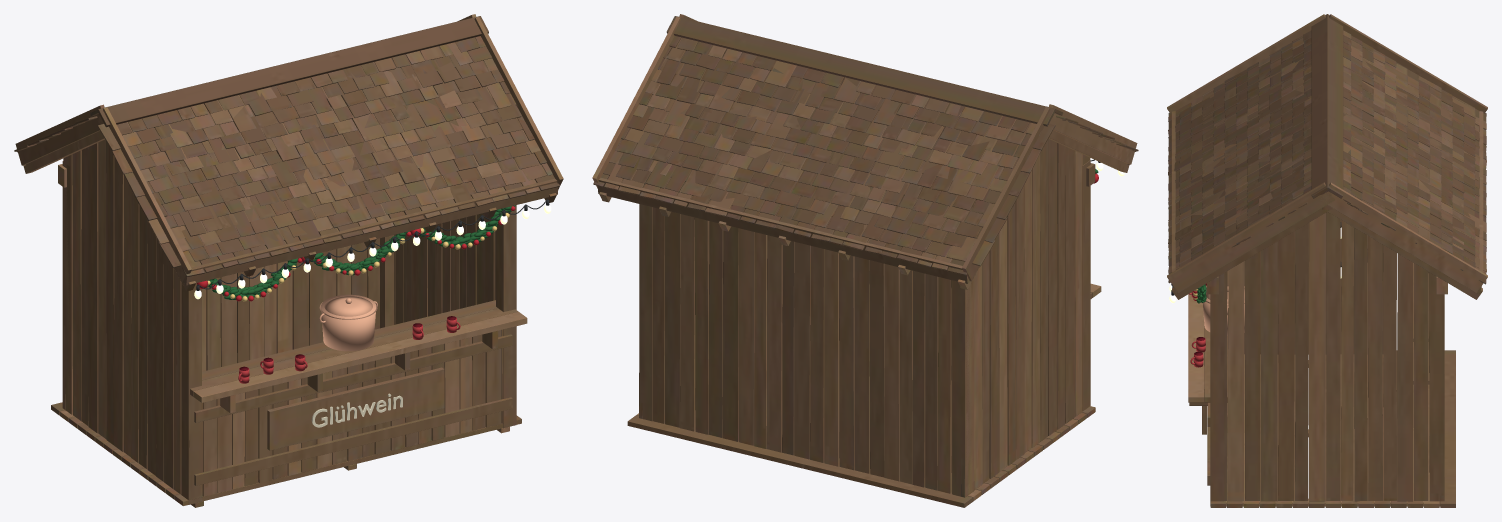
File: gluehwein_stall_web.glb
The picture shows the model from 3 angles, left to right: view 1: azimuth 30°, elevation 25°; view 2: azimuth 150°, elevation 25°; view 3: azimuth 270°, elevation 25°; orthographic projection. The views are drawn at different scales.
Parts seen in each view (by area): view 1: Stall_Wood, Stall_Shingles, Stall_Wires, Stall_Bulbs, Stall_SignText, Stall_Mugs, Stall_Garland_Red; view 2: Stall_Wood, Stall_Shingles; view 3: Stall_Wood, Stall_Shingles, Stall_Wires.
Boxes of the visible parts, x1=… form: Stall_Wood: x1=15, y1=14, x2=563, y2=507; Stall_Shingles: x1=14, y1=16, x2=559, y2=276; Stall_Wires: x1=196, y1=199, x2=549, y2=370; Stall_Bulbs: x1=194, y1=205, x2=551, y2=299; Stall_SignText: x1=311, y1=393, x2=402, y2=427; Stall_Mugs: x1=238, y1=317, x2=460, y2=383; Stall_Garland_Red: x1=197, y1=206, x2=515, y2=301; Stall_Wood: x1=592, y1=14, x2=1137, y2=507; Stall_Shingles: x1=593, y1=16, x2=1138, y2=275; Stall_Wood: x1=1167, y1=14, x2=1487, y2=507; Stall_Shingles: x1=1168, y1=14, x2=1486, y2=284; Stall_Wires: x1=1171, y1=222, x2=1341, y2=355.
Bounding box in the file's own units: 3.55 × 3.17 × 2.74.
Materials: 7 (7 with a texture image).
